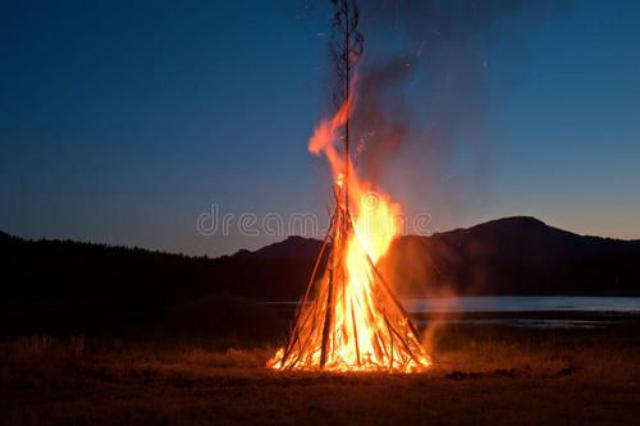fire: (346, 186, 392, 256), (332, 300, 353, 361), (350, 299, 370, 352), (342, 252, 364, 298), (306, 119, 330, 151), (391, 349, 412, 370), (331, 152, 343, 186), (300, 348, 320, 365), (330, 103, 346, 122), (267, 345, 281, 366), (347, 166, 357, 187), (374, 309, 384, 330), (417, 347, 425, 364)
